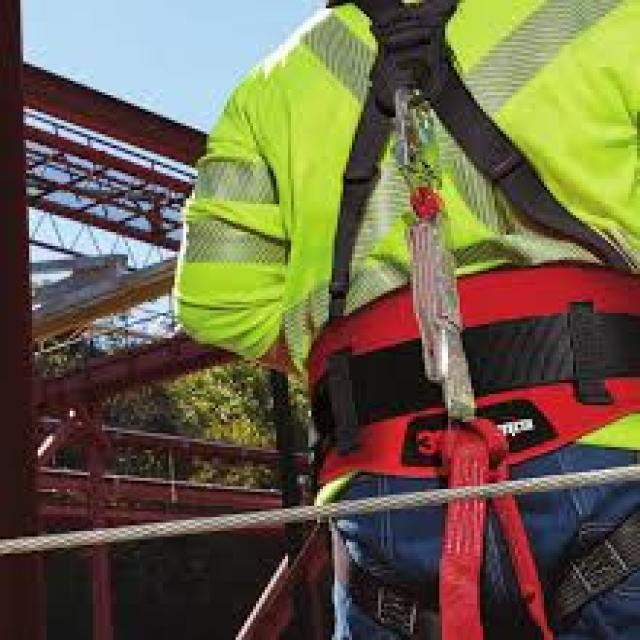harness: (348, 81, 563, 640)
